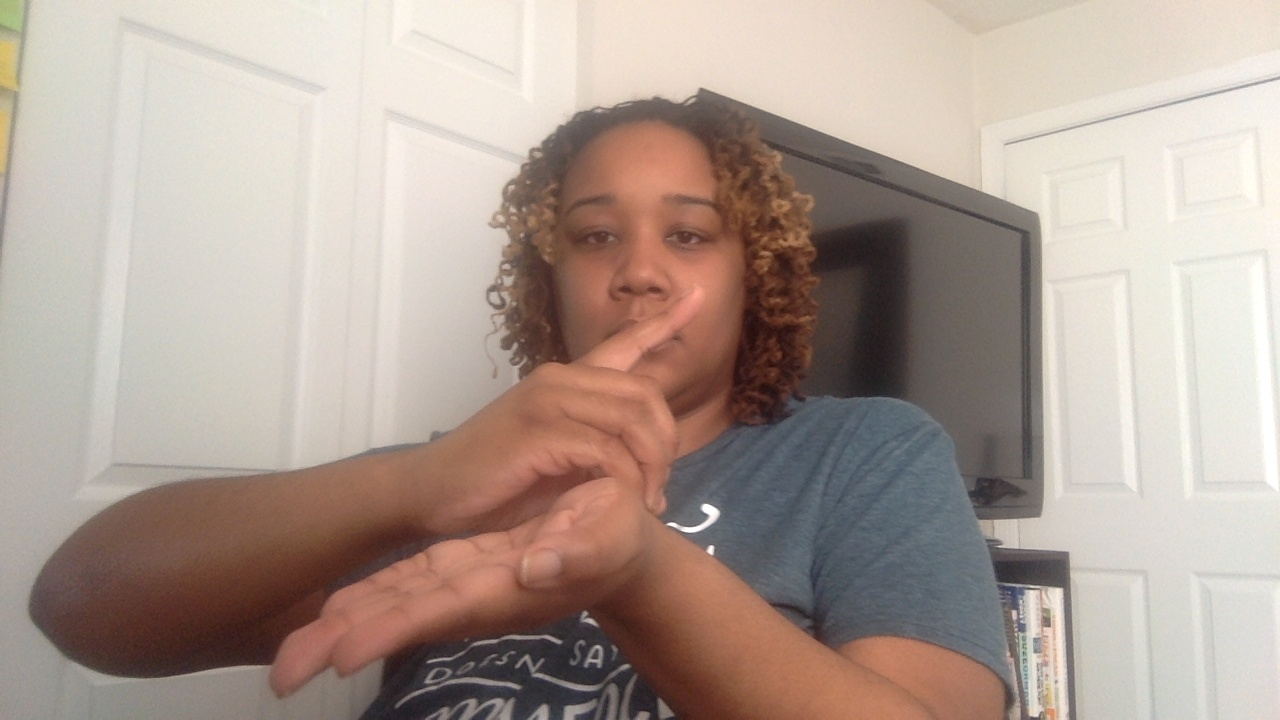doctor: (266, 283, 712, 698)
